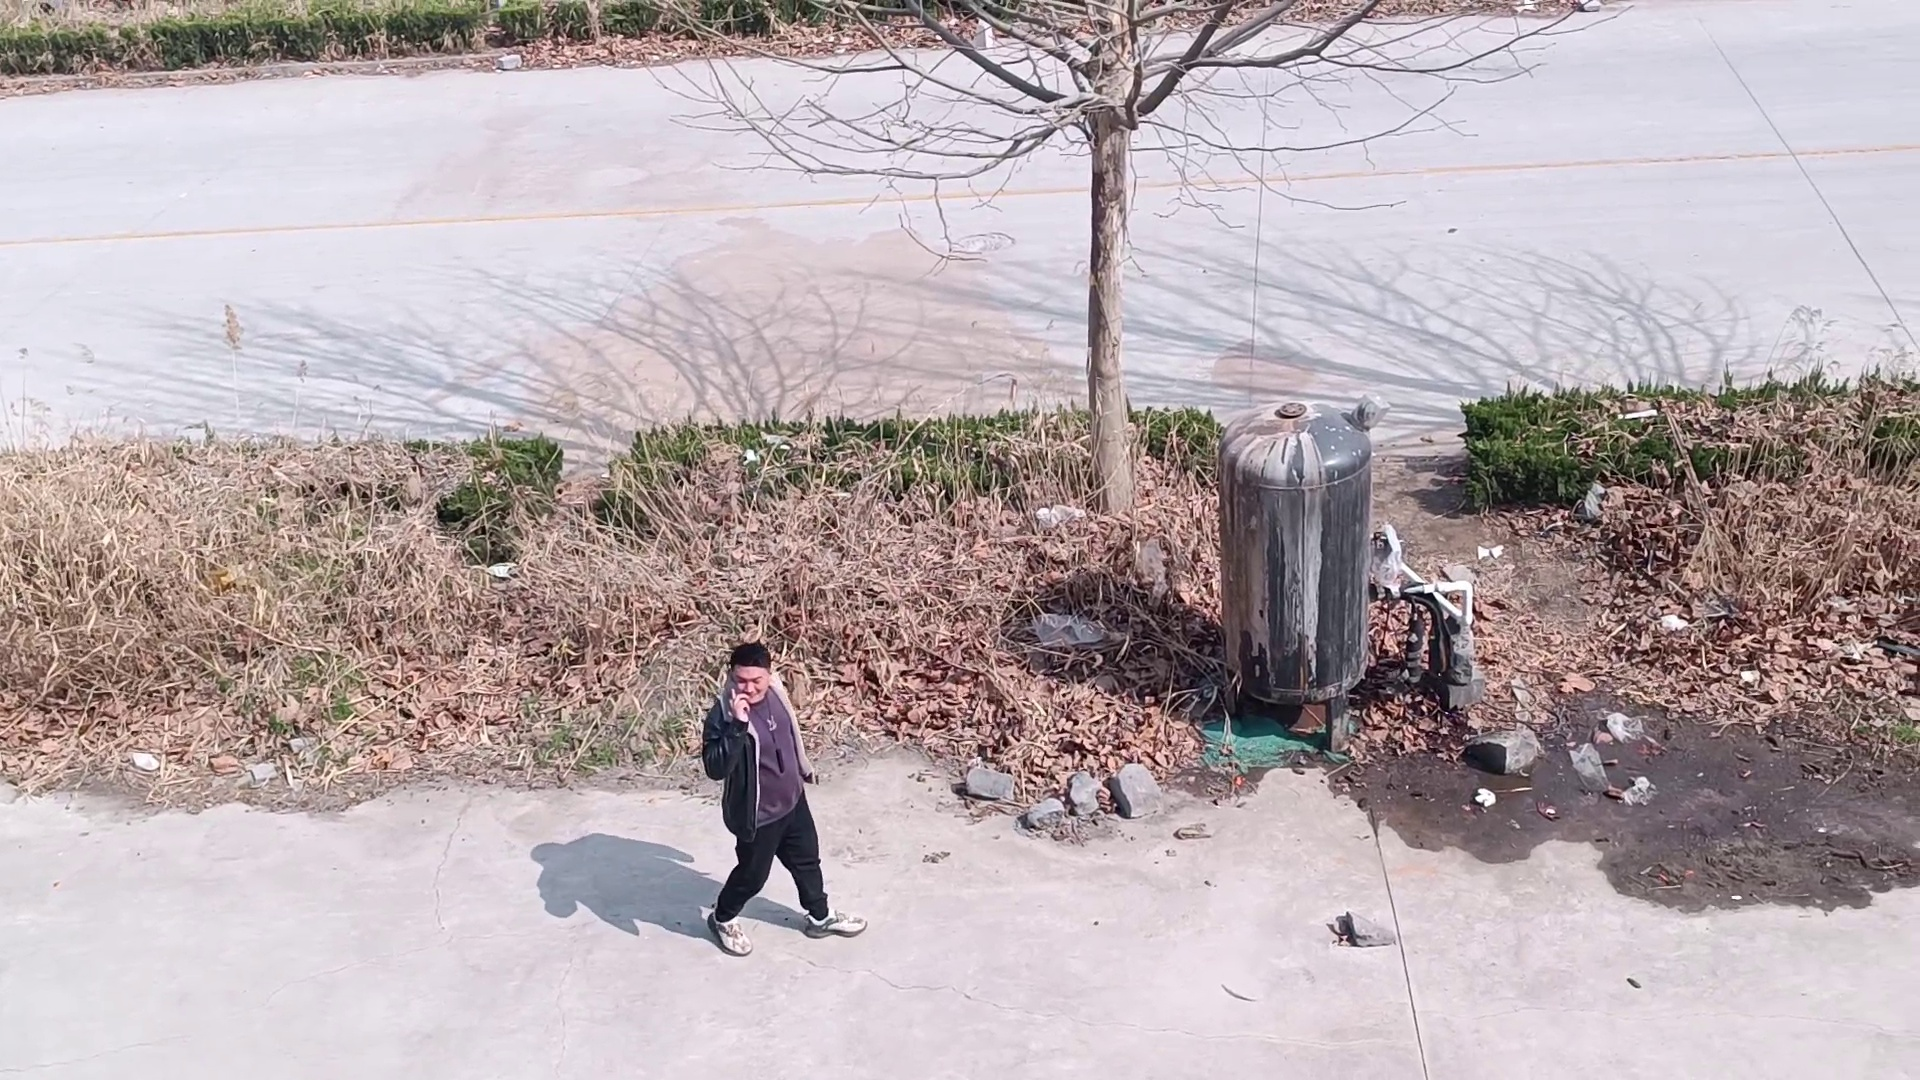phone: (721, 640, 778, 717)
